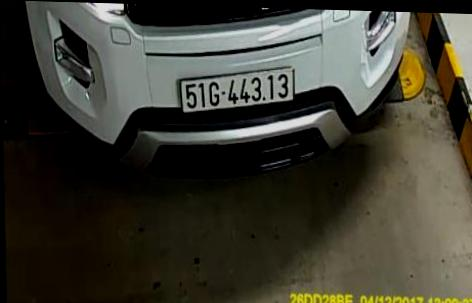License_Plate: (175, 63, 301, 117)
